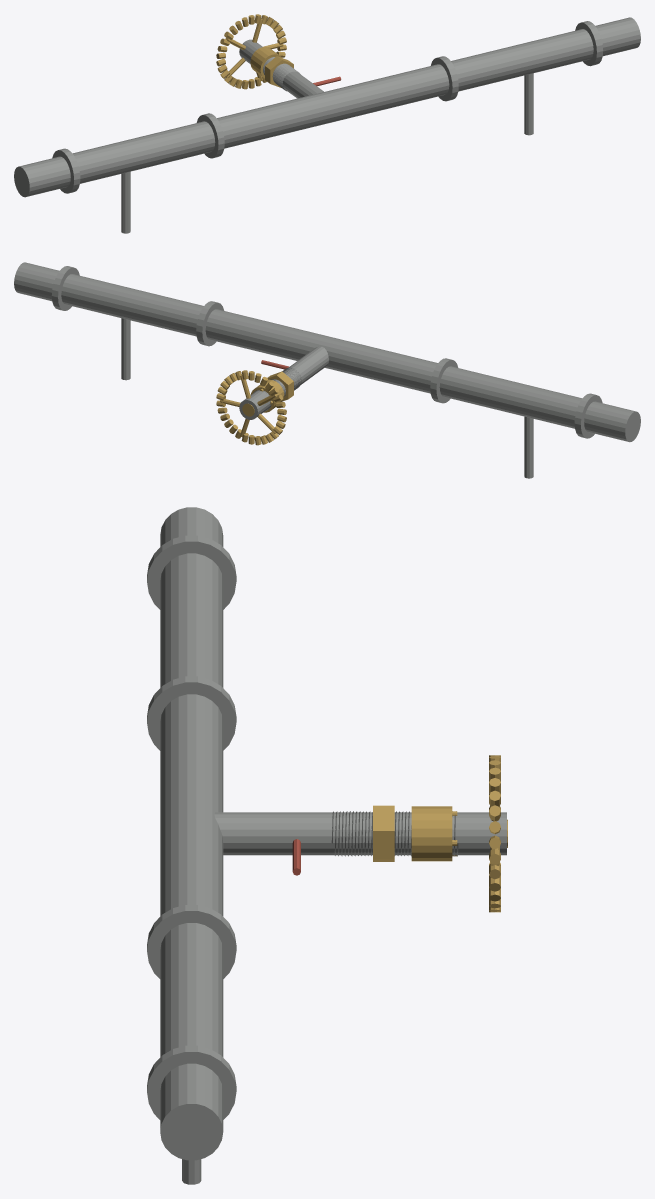
The model's file is plant_header_manifold.glb.
The picture shows the model from 3 angles, top to bottom: view 1: azimuth 30°, elevation 25°; view 2: azimuth 150°, elevation 25°; view 3: azimuth 270°, elevation 25°; orthographic projection. The views are drawn at different scales.
Parts seen in each view (by area): view 1: plant_header_manifold, plant_header_fittings; view 2: plant_header_manifold, plant_header_fittings; view 3: plant_header_manifold, plant_header_fittings.
Part boxes in pixels (x1,y1,x2,y2): plant_header_manifold: (14,17,640,233); plant_header_fittings: (216,14,293,89); plant_header_manifold: (14,262,640,478); plant_header_fittings: (216,370,293,445); plant_header_manifold: (147,507,506,1184); plant_header_fittings: (373,755,507,912).
Size of the model in its own units: 4.7 by 0.8131 by 1.2.
